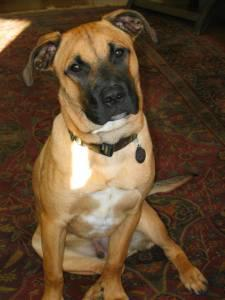dog-american_pit_bull_terrier: (20, 7, 156, 130)
